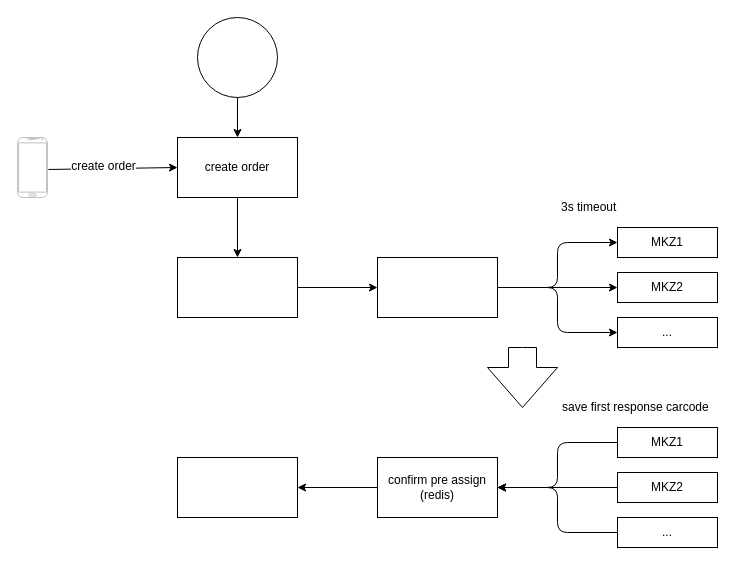
This 735x565 diagram has some shape labels left out. Here are the shapes that lost their labels. From the top down, the box of each, then its label:
(196, 16, 278, 98): start
(176, 256, 298, 318): fetch car
(376, 256, 498, 318): create pre assign (redis)
(176, 456, 298, 518): comfim assign update order data
